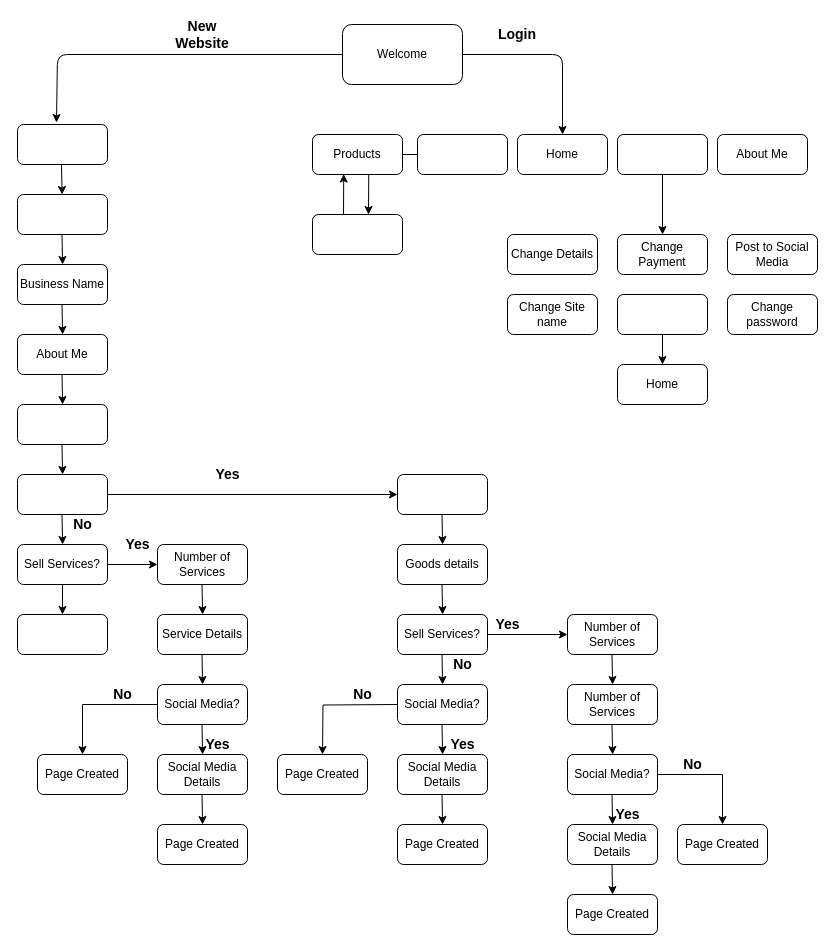
This 835x952 diagram has some shape labels left out. The box of each missing label's shape, as (x1, y1, x2, y2) in pixels:
About Me Photo: (16, 404, 108, 444)
Exit: (16, 614, 108, 654)
New item Form: (312, 214, 402, 254)
Number of Goods: (396, 474, 488, 514)
Orders: (416, 134, 508, 174)
Password Creation: (16, 194, 108, 234)
Registration form: (16, 124, 108, 164)
Sell Goods?: (16, 474, 108, 514)
Start/ Stop Products/ Services: (616, 294, 708, 334)
Website Settings: (616, 134, 708, 174)
